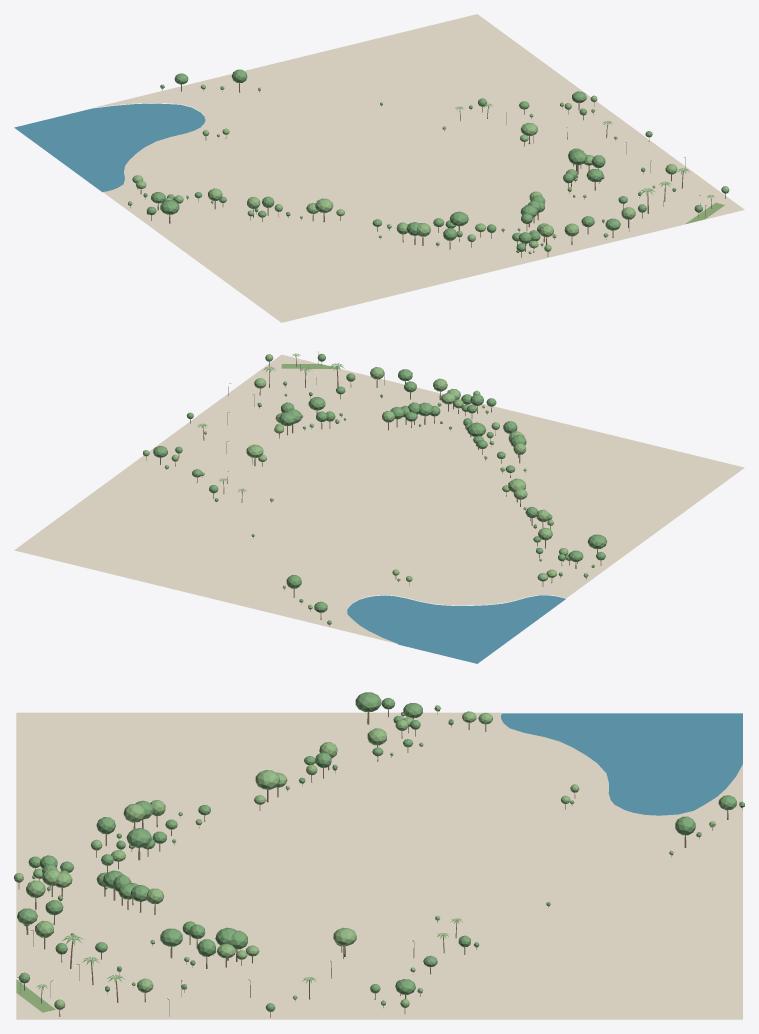
File: nature_0_2.glb
3 renders of one model, top to bottom at view 1: azimuth 30°, elevation 25°; view 2: azimuth 150°, elevation 25°; view 3: azimuth 270°, elevation 25°, orthographic. The views are drawn at different scales.
Visible parts, largest first — view 1: ground, water, foliage_a, foliage_b, trunk; view 2: ground, water, foliage_a, foliage_b, trunk; view 3: ground, water, foliage_a, foliage_b, trunk.
Part boxes in pixels (<box>): ground: <box>93,14,744,322</box>; water: <box>14,103,205,192</box>; foliage_a: <box>143,69,702,252</box>; foliage_b: <box>128,84,729,253</box>; trunk: <box>130,83,725,257</box>; ground: <box>14,354,744,643</box>; water: <box>347,595,565,663</box>; foliage_a: <box>153,353,607,624</box>; foliage_b: <box>143,354,588,609</box>; trunk: <box>146,355,601,626</box>; ground: <box>16,712,742,1019</box>; water: <box>501,713,742,815</box>; foliage_a: <box>17,692,744,1011</box>; foliage_b: <box>14,705,716,1009</box>; trunk: <box>18,709,742,1017</box>.
Size of the model in its own units: 250 by 12.22 by 252.
